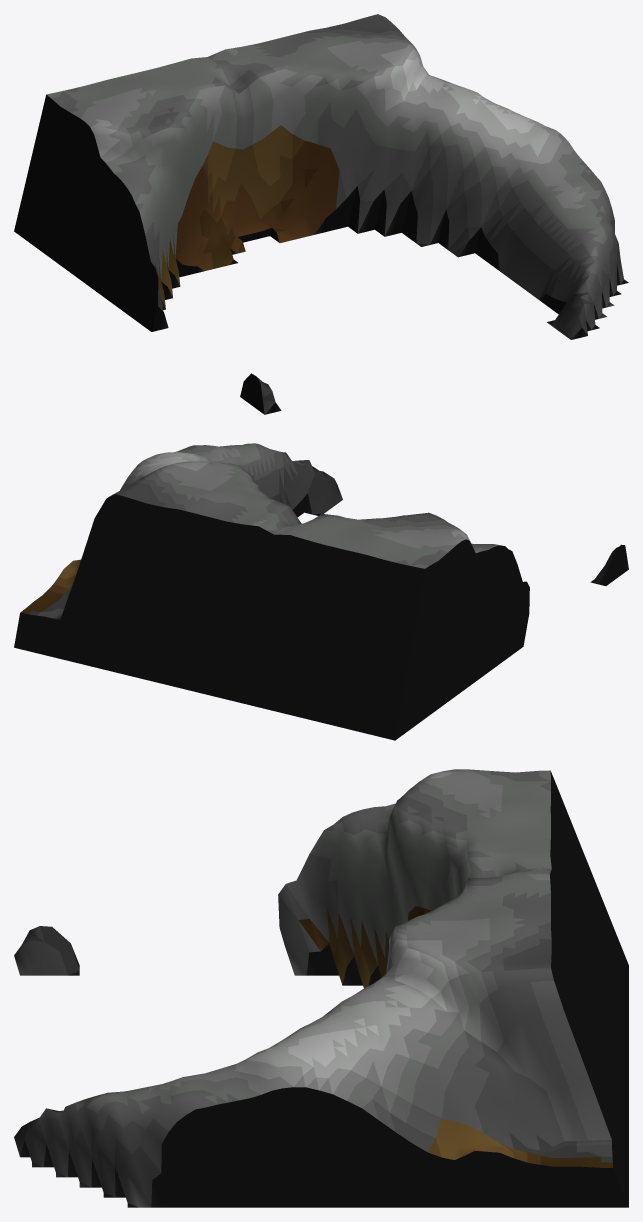
File: rock_machine_bc.glb
The picture shows the model from 3 angles, top to bottom: view 1: azimuth 30°, elevation 25°; view 2: azimuth 150°, elevation 25°; view 3: azimuth 270°, elevation 25°; orthographic projection. The views are drawn at different scales.
Parts seen in each view (by area): view 1: rock_machine_bc; view 2: rock_machine_bc; view 3: rock_machine_bc.
Boxes of the visible parts, box(x1,y1,x2,y2) form: rock_machine_bc: box(14, 14, 628, 414); rock_machine_bc: box(14, 443, 628, 740); rock_machine_bc: box(14, 769, 628, 1207).
Bounding box in the file's own units: 24 × 9.21 × 25.75.
